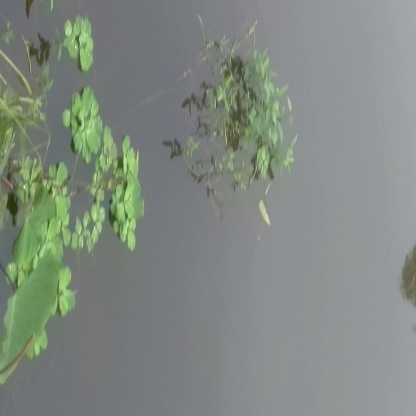grass: (184, 31, 311, 194)
